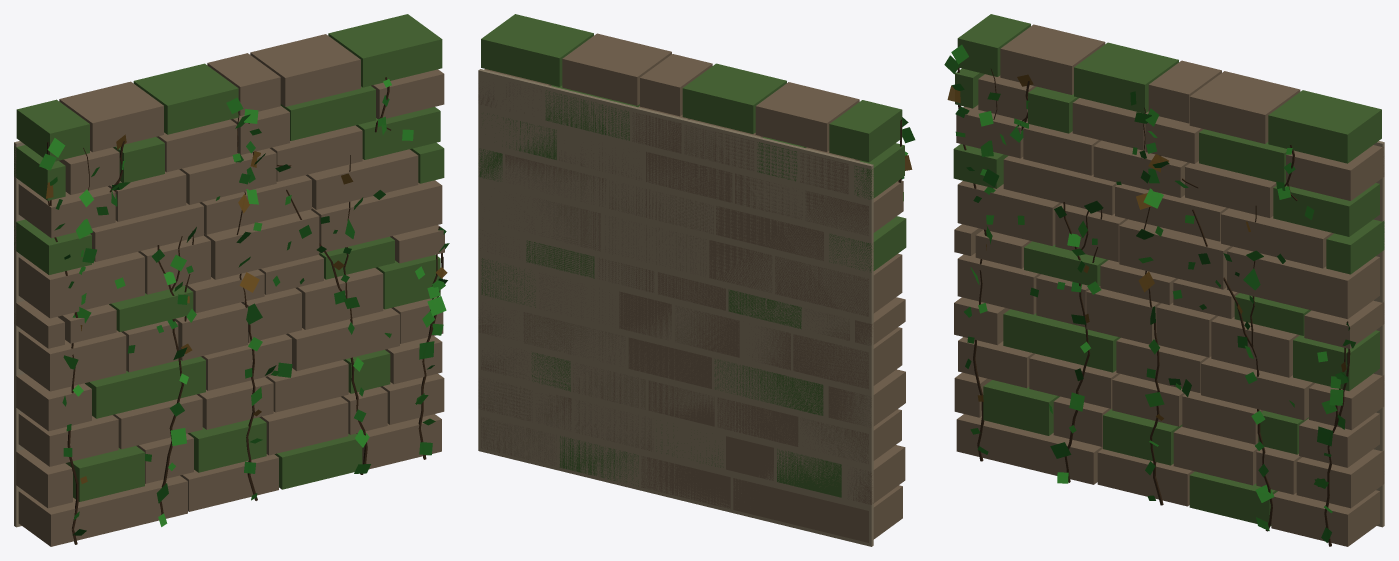
File: stone_wall.obj
The picture shows the model from 3 angles, left to right: view 1: azimuth 30°, elevation 25°; view 2: azimuth 150°, elevation 25°; view 3: azimuth 330°, elevation 25°; orthographic projection.
Visible parts, largest first — view 1: stone, moss_stone, leaf_light, leaf_dark, vine, mortar, leaf_dead; view 2: mortar, stone, moss_stone; view 3: stone, moss_stone, leaf_light, leaf_dark, vine, mortar, leaf_dead.
Part boxes in pixels (bbox=[...]): stone: bbox=[14, 34, 444, 546]; moss_stone: bbox=[14, 14, 444, 501]; leaf_light: bbox=[39, 79, 449, 526]; leaf_dark: bbox=[55, 95, 447, 535]; vine: bbox=[47, 77, 443, 544]; mortar: bbox=[14, 141, 24, 527]; leaf_dead: bbox=[46, 134, 447, 483]; mortar: bbox=[478, 69, 873, 546]; stone: bbox=[478, 33, 905, 542]; moss_stone: bbox=[478, 14, 906, 497]; stone: bbox=[954, 24, 1384, 546]; moss_stone: bbox=[953, 14, 1384, 526]; leaf_light: bbox=[944, 44, 1355, 530]; leaf_dark: bbox=[955, 106, 1349, 542]; vine: bbox=[957, 68, 1350, 546]; mortar: bbox=[1373, 141, 1384, 527]; leaf_dead: bbox=[947, 74, 1346, 420].
Size of the model in its own units: 2.08 by 2.01 by 0.3636.
